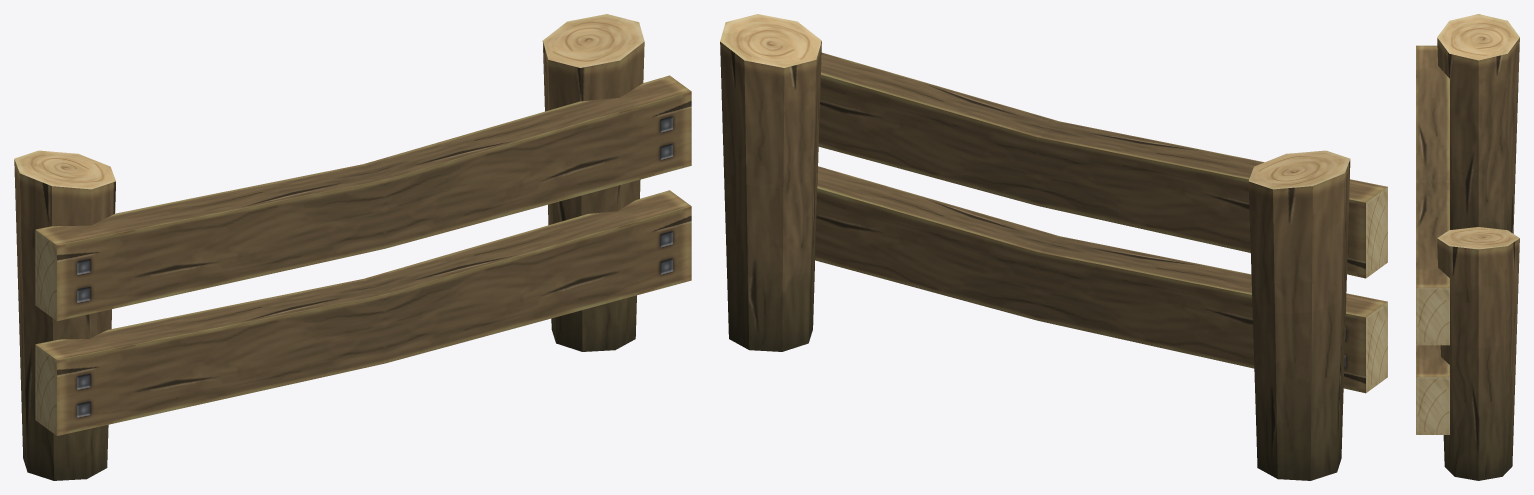
File: wooden_fence_58.fbx
The picture shows the model from 3 angles, left to right: view 1: azimuth 30°, elevation 25°; view 2: azimuth 150°, elevation 25°; view 3: azimuth 270°, elevation 25°; orthographic projection. The views are drawn at different scales.
Visible parts, largest first — view 1: wooden_fence_58:Mesh; view 2: wooden_fence_58:Mesh; view 3: wooden_fence_58:Mesh.
Part boxes in pixels (x1,y1,x2,y2): wooden_fence_58:Mesh: (14, 14, 691, 480); wooden_fence_58:Mesh: (720, 14, 1387, 480); wooden_fence_58:Mesh: (1416, 14, 1519, 480).
Bounding box in the file's own units: 6.53 × 2.96 × 1.19.
